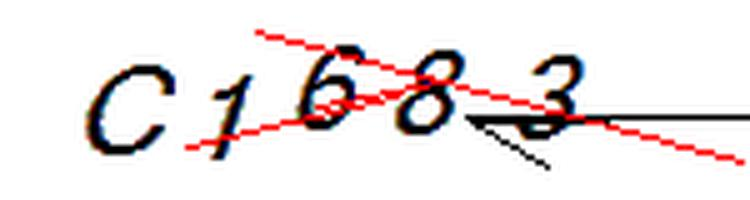1: (197, 69, 258, 174)
3: (511, 45, 588, 149)
6: (288, 37, 378, 139)
8: (389, 43, 467, 142)
C: (76, 56, 182, 157)
